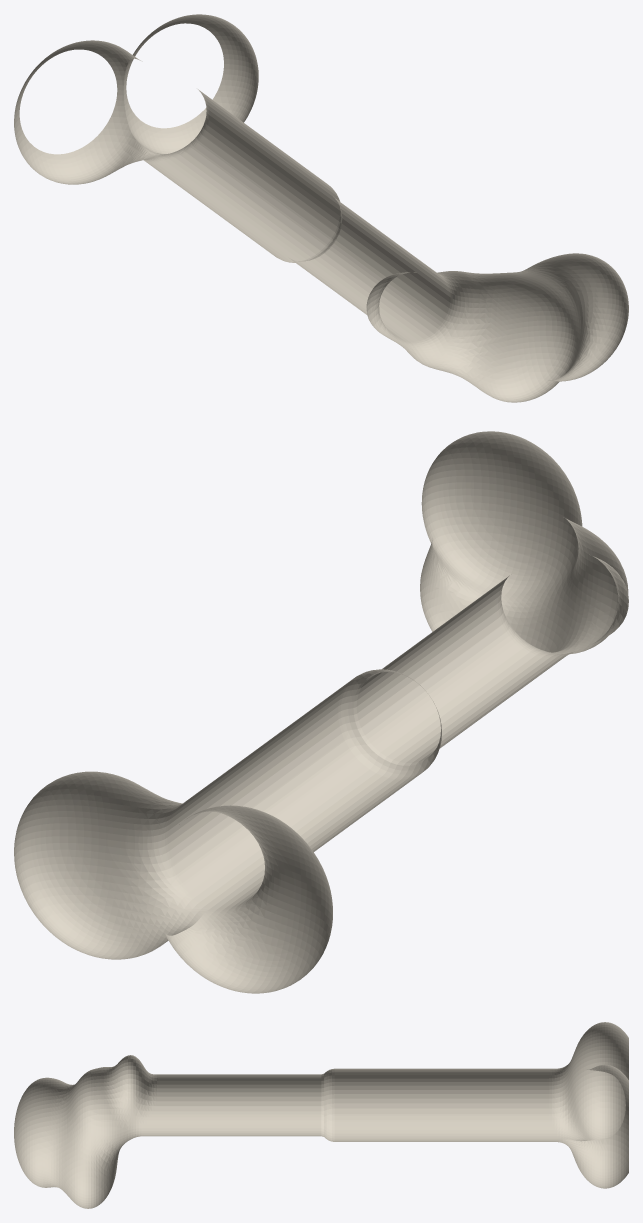
Rendered from e2e_preview.glb.
The picture shows the model from 3 angles, top to bottom: view 1: azimuth 30°, elevation 25°; view 2: azimuth 150°, elevation 25°; view 3: azimuth 270°, elevation 25°; orthographic projection. The views are drawn at different scales.
Parts seen in each view (by area): view 1: femur; view 2: femur; view 3: femur.
Boxes of the visible parts, x1,y1,x2,y2 form: femur: (14,14,628,402); femur: (14,431,628,993); femur: (14,1022,628,1208).
Size of the model in its own units: 110 by 61.96 by 268.
